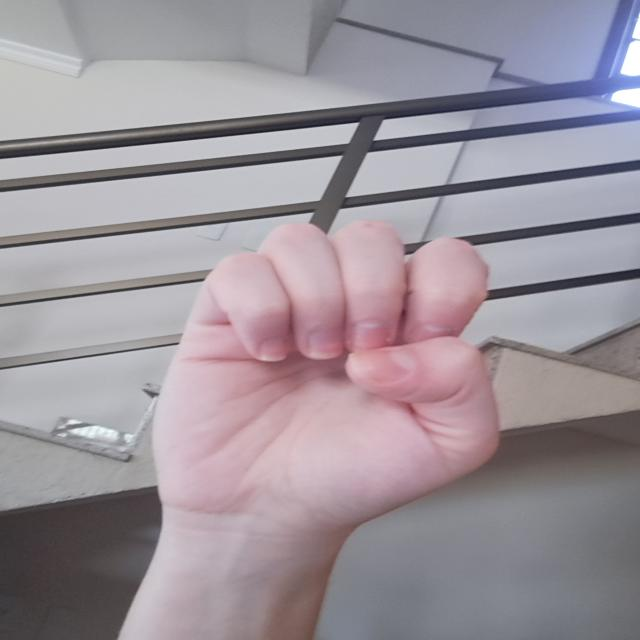E: (143, 216, 518, 553)
